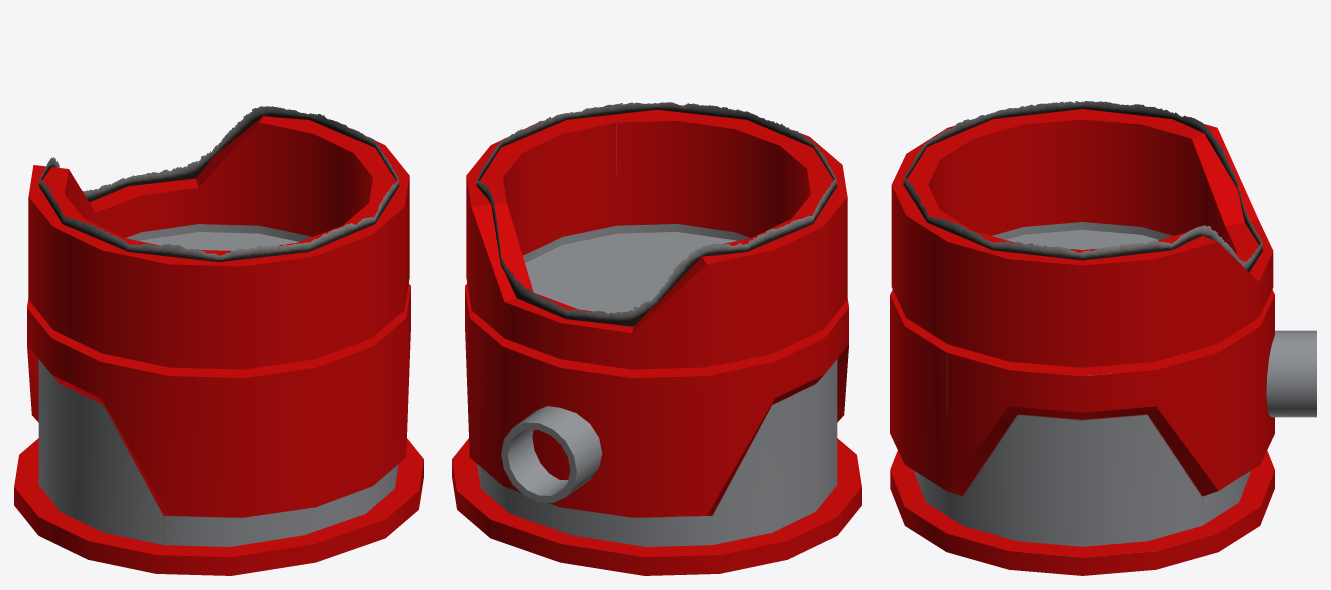
File: squirrelCapsule(1).fbx
The picture shows the model from 3 angles, left to right: view 1: azimuth 30°, elevation 25°; view 2: azimuth 150°, elevation 25°; view 3: azimuth 270°, elevation 25°; orthographic projection.
Parts seen in each view (by area): view 1: Cylinder; view 2: Cylinder; view 3: Cylinder.
Boxes of the visible parts, x1,y1,x2,y2 form: Cylinder: (14,106,423,575); Cylinder: (452,102,861,575); Cylinder: (890,100,1316,575).
Bounding box in the file's own units: 3329 × 4063 × 3430.
